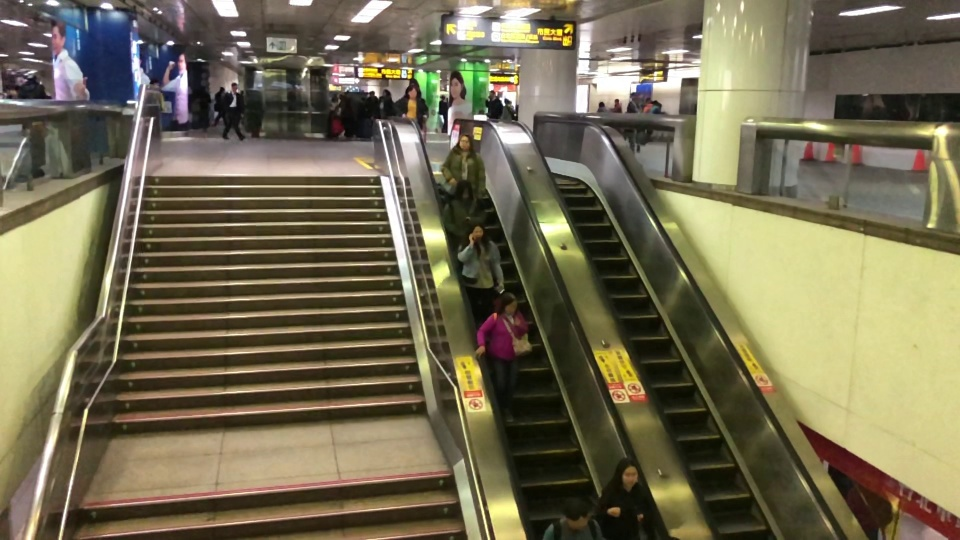person_head: (558, 495, 593, 526), (615, 457, 641, 492), (449, 182, 477, 205), (497, 289, 519, 315), (465, 225, 489, 241), (403, 82, 420, 97), (456, 133, 473, 147), (12, 71, 27, 85), (628, 90, 641, 101), (229, 81, 241, 92), (488, 91, 498, 101), (504, 96, 513, 107)
person_vbox: (471, 289, 532, 425), (453, 222, 510, 322), (434, 132, 497, 221), (597, 457, 661, 539), (10, 71, 52, 182), (542, 495, 606, 540), (444, 183, 489, 235), (397, 80, 432, 143), (220, 80, 247, 142), (624, 92, 647, 154), (485, 91, 503, 122), (501, 95, 517, 125)
